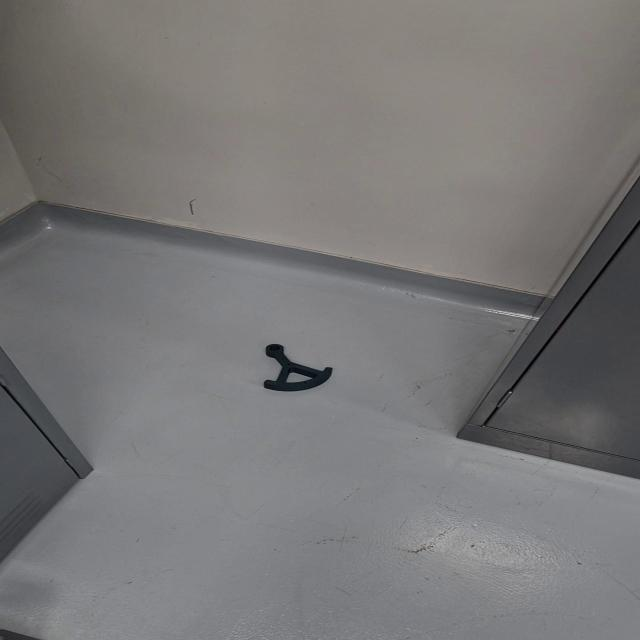haptic: (263, 343, 333, 392)
